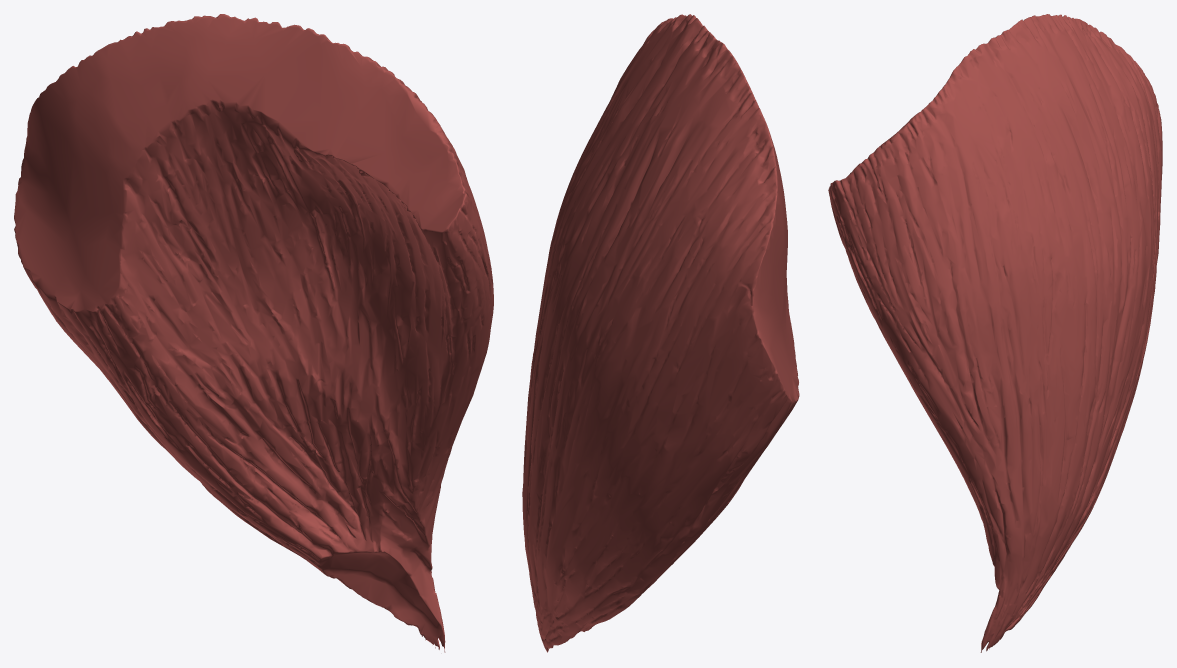
File: FMA22331.glb
3 renders of one model, left to right at view 1: azimuth 30°, elevation 25°; view 2: azimuth 150°, elevation 25°; view 3: azimuth 270°, elevation 25°, orthographic. The views are drawn at different scales.
Visible parts, largest first — view 1: FMA22331; view 2: FMA22331; view 3: FMA22331.
Boxes of the visible parts, box(x1,y1,x2,y2) form: FMA22331: box(14, 14, 493, 652); FMA22331: box(522, 14, 799, 652); FMA22331: box(828, 14, 1162, 652).
Size of the model in its own units: 0.0866 by 0.1626 by 0.0888.
